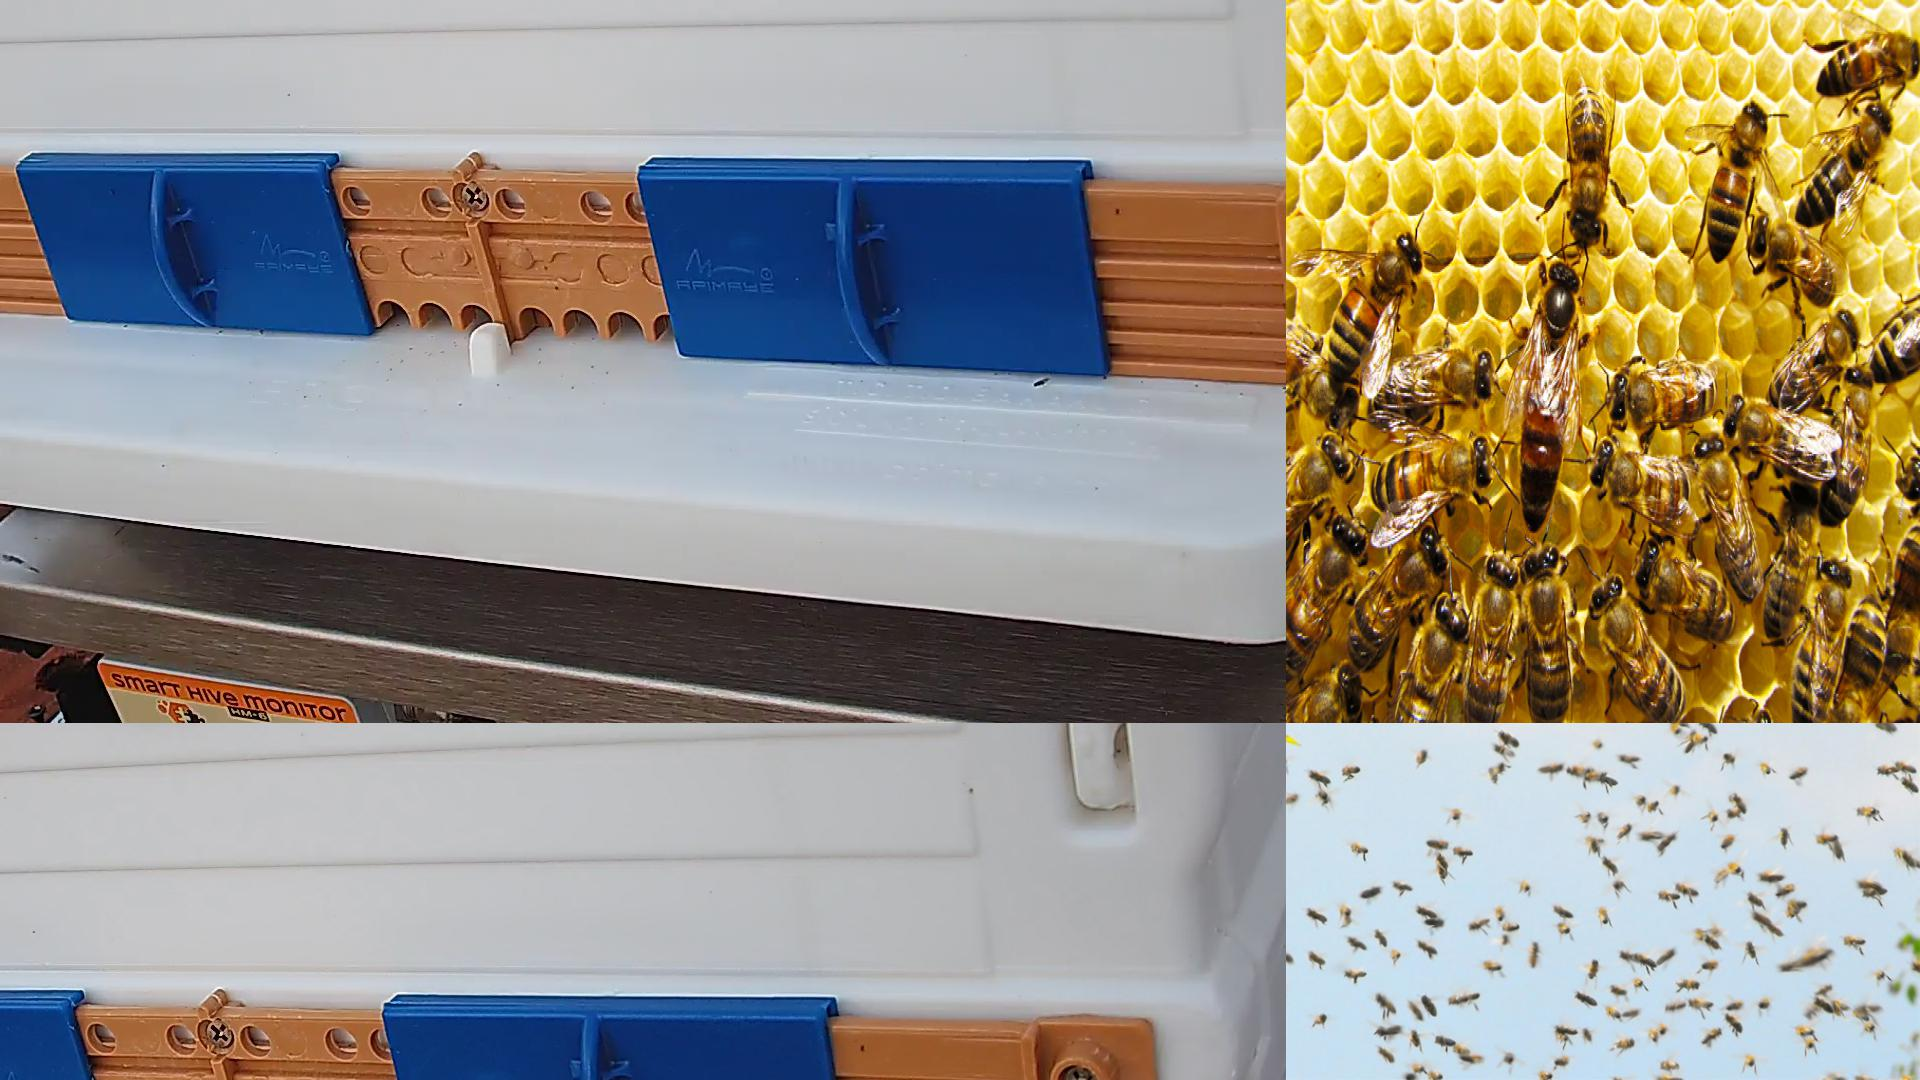bee: (1348, 529, 1448, 670), (1286, 518, 1366, 684), (1592, 575, 1683, 721), (1335, 236, 1423, 380), (1796, 104, 1892, 224), (1696, 436, 1762, 595), (1635, 539, 1735, 637), (1792, 562, 1853, 723), (1706, 103, 1766, 264), (1373, 436, 1493, 514), (1398, 593, 1469, 723), (1369, 349, 1493, 423), (1464, 554, 1516, 723), (1522, 545, 1571, 723), (1729, 397, 1832, 479), (1767, 314, 1858, 405), (1764, 483, 1818, 634), (1605, 359, 1714, 430), (1589, 439, 1691, 516), (1751, 216, 1836, 305), (1824, 369, 1871, 525), (1286, 326, 1356, 430), (1832, 595, 1886, 721), (1569, 84, 1609, 251), (1818, 34, 1920, 96), (1286, 436, 1349, 530), (1286, 662, 1365, 723), (1888, 524, 1919, 651), (1869, 309, 1919, 381), (1898, 448, 1920, 509), (1895, 848, 1919, 868), (1377, 993, 1396, 1013), (1725, 1013, 1743, 1031), (1859, 881, 1887, 893), (1763, 922, 1783, 938), (1809, 948, 1833, 961), (1780, 959, 1807, 971), (1702, 1027, 1722, 1043), (1422, 996, 1436, 1017), (1499, 731, 1518, 746), (1658, 948, 1676, 964), (1813, 997, 1832, 1013), (1617, 952, 1640, 964), (1416, 940, 1437, 953), (1576, 993, 1597, 1006), (1895, 761, 1916, 774), (1378, 1046, 1394, 1063), (1902, 778, 1919, 794), (1604, 856, 1618, 874), (1788, 901, 1807, 915), (1416, 907, 1439, 919), (1633, 955, 1655, 967), (1308, 770, 1331, 782), (1565, 766, 1590, 777), (1553, 905, 1573, 918), (1658, 833, 1673, 849), (1437, 855, 1448, 878), (1684, 731, 1696, 752), (1676, 980, 1700, 990), (1689, 1000, 1713, 1010), (1375, 1026, 1399, 1036), (1490, 764, 1506, 779), (1308, 909, 1327, 922), (1375, 928, 1389, 947), (1855, 1005, 1882, 1014), (1410, 1002, 1423, 1021), (1789, 766, 1808, 779), (1844, 935, 1866, 945), (1855, 807, 1878, 818), (1460, 993, 1480, 1005), (1665, 1001, 1685, 1013), (1617, 823, 1631, 839), (1778, 884, 1795, 897), (1704, 936, 1721, 949), (1733, 796, 1746, 814), (1676, 885, 1697, 895), (1659, 890, 1680, 901), (1342, 905, 1353, 926), (1361, 886, 1379, 898), (1751, 913, 1770, 924), (1349, 938, 1367, 949), (1745, 940, 1756, 959), (1494, 745, 1513, 757), (1874, 723, 1898, 732), (1698, 723, 1717, 735), (1817, 832, 1837, 843), (1832, 843, 1845, 858), (1530, 942, 1538, 968), (1309, 951, 1325, 964), (1435, 1035, 1455, 1046), (1615, 1038, 1635, 1048), (1598, 907, 1610, 924), (1833, 1000, 1850, 1011), (1832, 1001, 1844, 1018), (1424, 918, 1443, 928), (1469, 919, 1490, 928), (1588, 960, 1598, 978), (1345, 969, 1366, 978), (1672, 723, 1691, 733), (1878, 766, 1899, 775), (1588, 771, 1606, 782), (1721, 835, 1734, 849), (1807, 1005, 1820, 1019), (1865, 889, 1880, 901), (1747, 894, 1763, 906), (1795, 1026, 1815, 1035), (1462, 1055, 1482, 1064), (1395, 881, 1412, 891), (1484, 960, 1501, 971), (1453, 1043, 1470, 1054), (1556, 1026, 1578, 1034), (1540, 764, 1563, 771), (1607, 1006, 1621, 1019), (1857, 1007, 1870, 1021), (1588, 837, 1600, 852), (1597, 811, 1609, 825), (1779, 828, 1788, 847), (1453, 847, 1472, 856), (1609, 985, 1627, 994), (1702, 959, 1718, 969), (1619, 754, 1640, 762), (1602, 775, 1618, 786), (1350, 844, 1367, 853), (1815, 984, 1832, 993), (1726, 1001, 1743, 1010), (1662, 1062, 1679, 1071), (1428, 840, 1448, 848), (1317, 790, 1329, 803), (1410, 1030, 1420, 1044), (1449, 994, 1465, 1004), (1341, 766, 1360, 774), (1729, 862, 1742, 873), (1714, 870, 1727, 881), (1758, 998, 1771, 1009), (1495, 906, 1505, 920), (1582, 1027, 1592, 1042), (1418, 749, 1427, 764), (1428, 1071, 1443, 1080), (1503, 923, 1519, 931), (1557, 923, 1569, 934), (1556, 1031, 1568, 1042), (1648, 800, 1659, 812), (1580, 811, 1590, 823), (1639, 832, 1662, 837), (1762, 876, 1783, 881), (1613, 880, 1623, 890), (1505, 1052, 1515, 1063), (1745, 1055, 1755, 1065), (1634, 977, 1643, 989), (1315, 1014, 1327, 1023), (1286, 794, 1298, 803), (1695, 928, 1702, 942), (1623, 1010, 1639, 1017), (1726, 810, 1739, 818), (1520, 882, 1530, 893), (1863, 1023, 1874, 1033), (1762, 764, 1771, 774), (1452, 808, 1461, 819), (1708, 810, 1717, 820), (1539, 1072, 1553, 1079), (1695, 737, 1706, 745), (1501, 934, 1509, 945), (1651, 1030, 1659, 1042), (1724, 754, 1735, 762), (1412, 1065, 1425, 1072), (1286, 953, 1294, 964), (1875, 971, 1886, 978), (1636, 795, 1644, 806), (1712, 923, 1718, 935), (1390, 951, 1399, 959), (1671, 785, 1679, 794), (1555, 1059, 1565, 1065), (1807, 1039, 1815, 1047), (1404, 1073, 1416, 1079), (1660, 1023, 1667, 1033), (1594, 741, 1602, 748)
queen: (1518, 264, 1578, 531)
